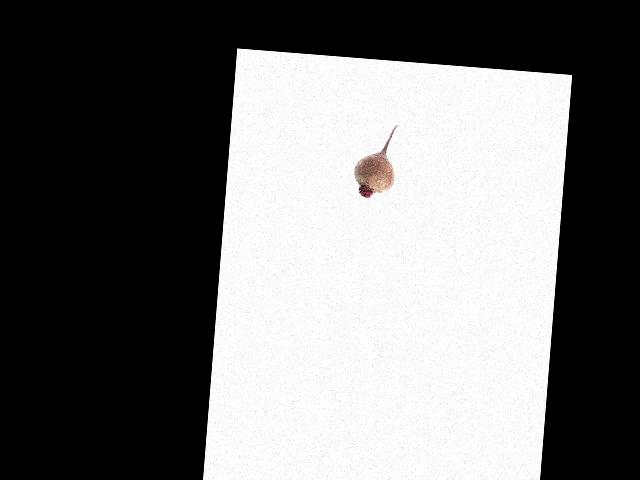beet: (351, 122, 398, 199)
